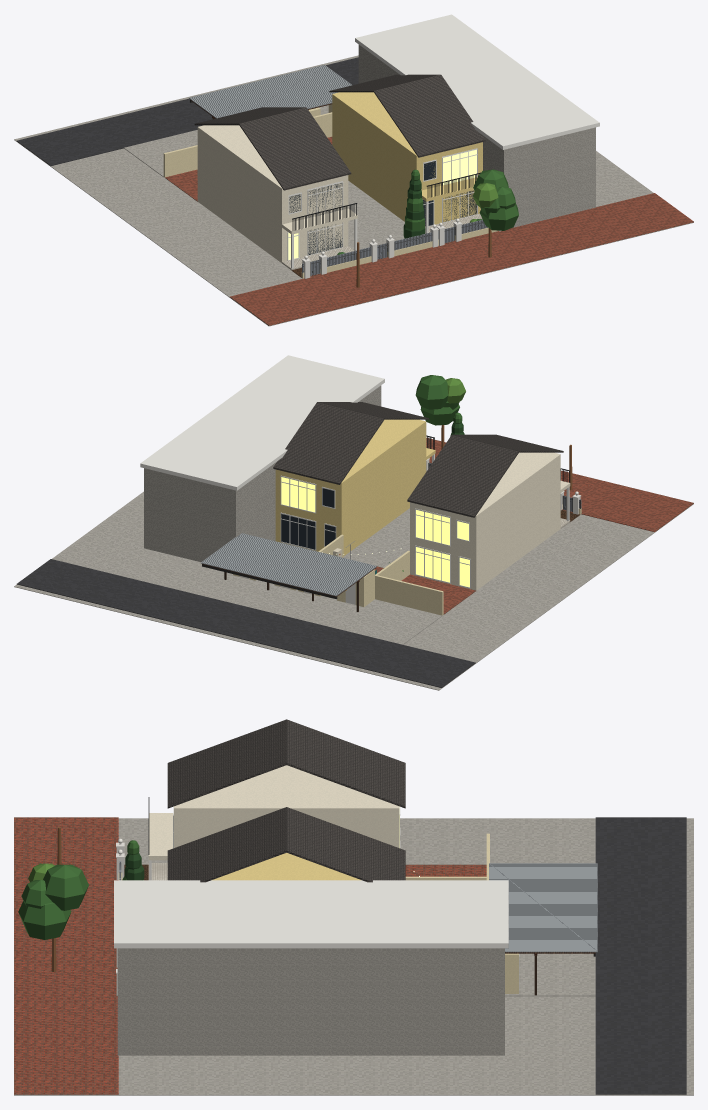
Rendered from shenton_site.glb.
The picture shows the model from 3 angles, top to bottom: view 1: azimuth 30°, elevation 25°; view 2: azimuth 150°, elevation 25°; view 3: azimuth 270°, elevation 25°; orthographic projection. The views are drawn at different scales.
Parts seen in each view (by area): view 1: Site-col, Site, StreetTree2, PencilPine; view 2: Site-col, Site, StreetTree2; view 3: Site-col, Site, StreetTree2, PencilPine.
Boxes of the visible parts, box(x1,y1,x2,y2) form: Site-col: box(14, 45, 693, 326); Site: box(189, 14, 599, 260); StreetTree2: box(473, 169, 518, 257); PencilPine: box(403, 169, 425, 238); Site-col: box(14, 385, 693, 690); Site: box(140, 355, 569, 599); StreetTree2: box(415, 375, 465, 449); Site-col: box(14, 765, 693, 1095); Site: box(114, 719, 597, 989); StreetTree2: box(18, 863, 88, 971); PencilPine: box(122, 840, 144, 880).
Size of the model in its own units: 36 by 9.23 by 37.4.
57 materials, 14 textured.
